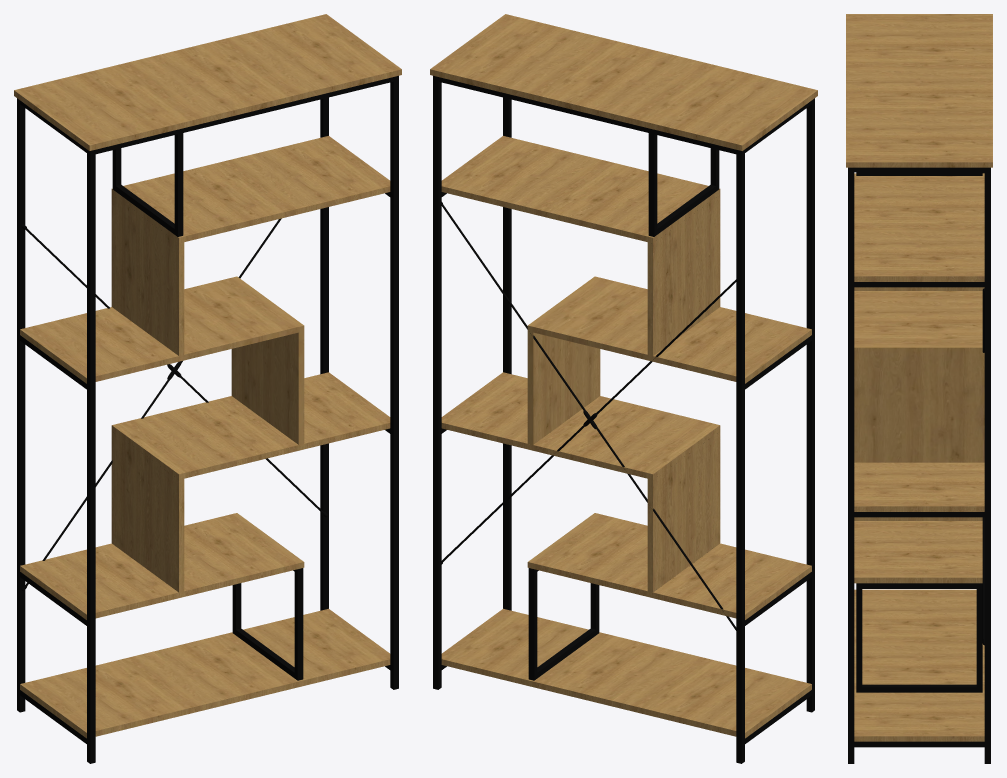
Rendered from bookcase-tzof.glb.
3 views of the same model, side by side, from view 1: azimuth 30°, elevation 25°; view 2: azimuth 150°, elevation 25°; view 3: azimuth 270°, elevation 25° (orthographic). The views are drawn at different scales.
Visible parts, largest first — view 1: bookcase-tzof (×9); view 2: bookcase-tzof (×9); view 3: bookcase-tzof (×9).
Part boxes in pixels (<box>): bookcase-tzof (×9): <box>14,14,401,763</box>; bookcase-tzof (×9): <box>430,14,817,763</box>; bookcase-tzof (×9): <box>846,14,992,763</box>.
Bounding box in the file's own units: 0.86 × 1.63 × 0.36.
Materials: 9 (8 with a texture image).
